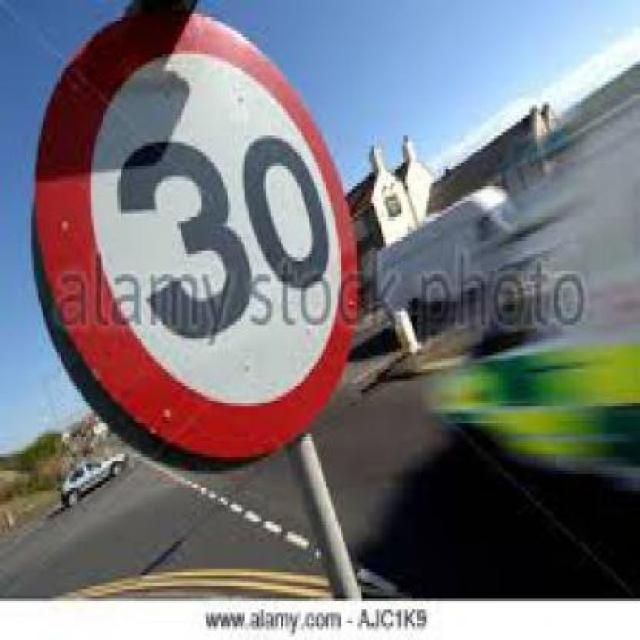forb_speed_over_30: (41, 12, 354, 455)
